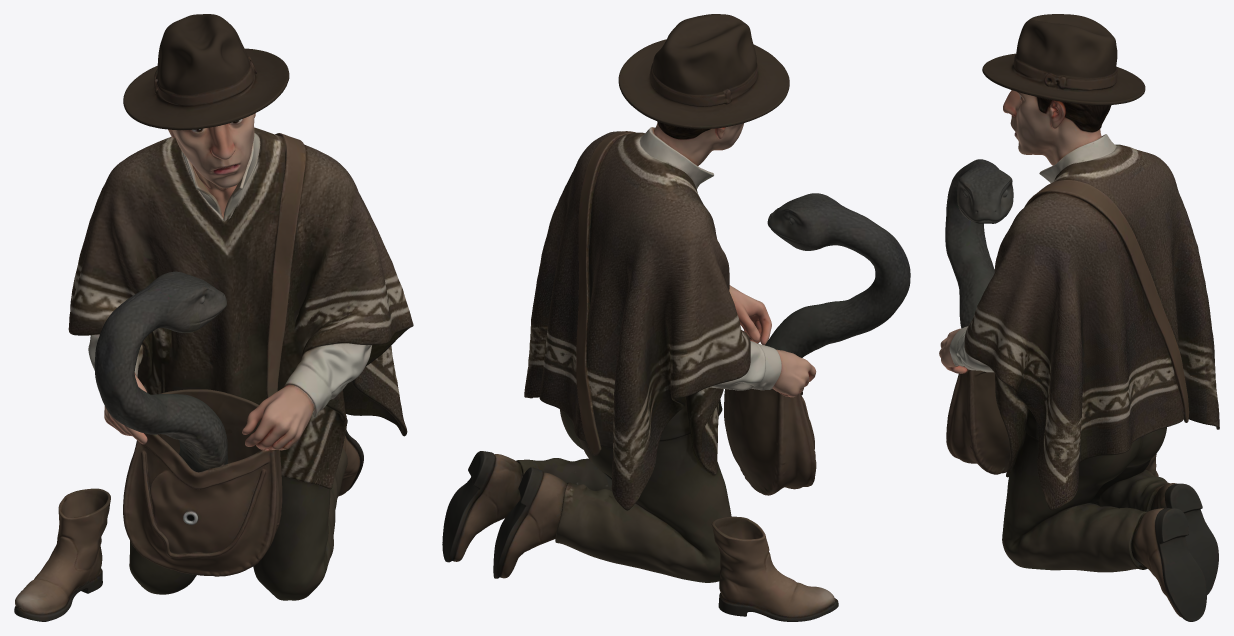
The model's file is 21-la-laguna-bravía-y-el-tesoro-del-mohán-optimized.glb.
The picture shows the model from 3 angles, left to right: view 1: azimuth 30°, elevation 25°; view 2: azimuth 150°, elevation 25°; view 3: azimuth 270°, elevation 25°; orthographic projection. The views are drawn at different scales.
Visible parts, largest first — view 1: tripo_node_6123210f-2ff6-4767-a4c6-4d7c5340b0b3; view 2: tripo_node_6123210f-2ff6-4767-a4c6-4d7c5340b0b3; view 3: tripo_node_6123210f-2ff6-4767-a4c6-4d7c5340b0b3.
Part boxes in pixels (x1,y1,x2,y2): tripo_node_6123210f-2ff6-4767-a4c6-4d7c5340b0b3: [14, 14, 413, 621]; tripo_node_6123210f-2ff6-4767-a4c6-4d7c5340b0b3: [442, 14, 910, 621]; tripo_node_6123210f-2ff6-4767-a4c6-4d7c5340b0b3: [939, 14, 1219, 621].
Bounding box in the file's own units: 0.6943 × 1 × 0.4936.
1 material, 1 textured.
